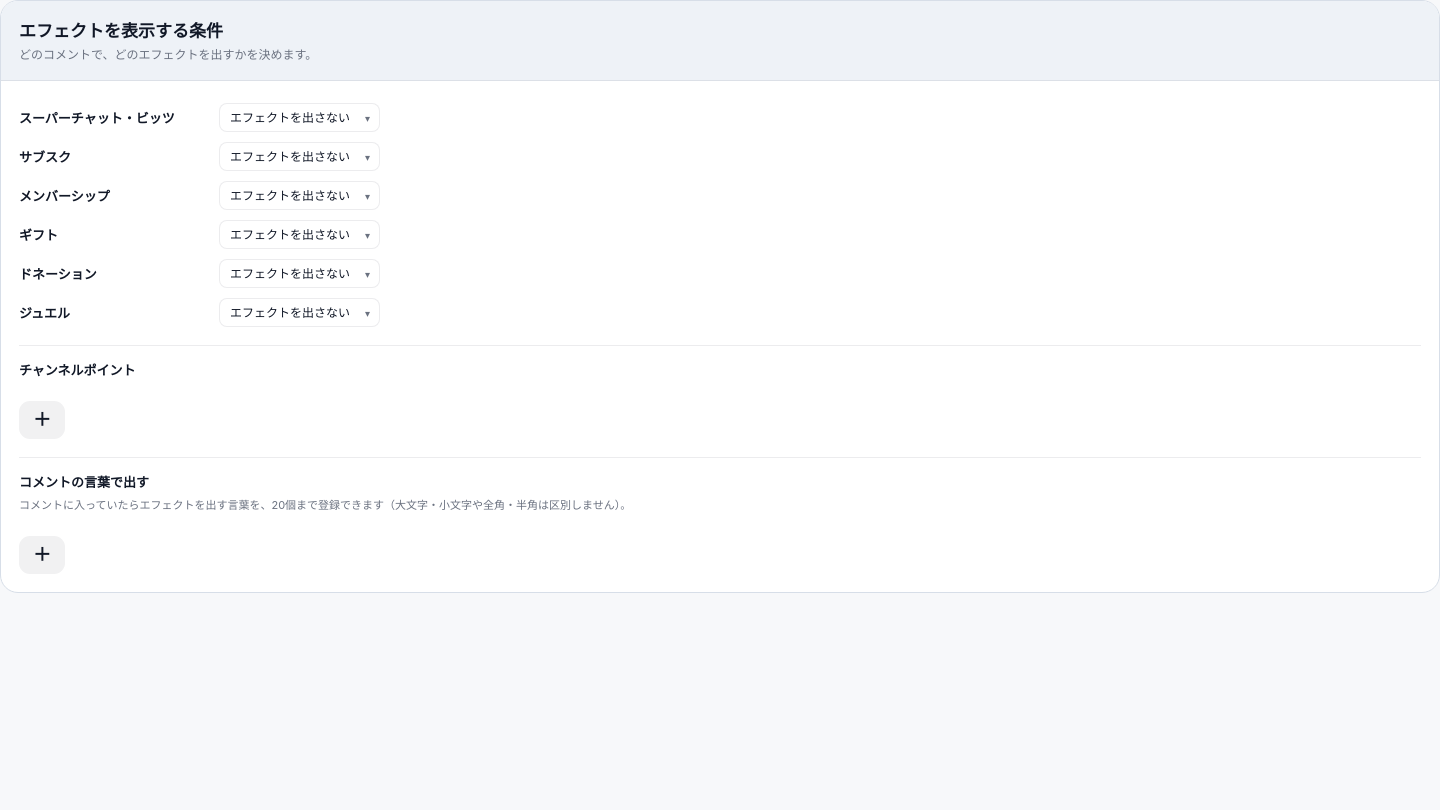
Test: 064b: 割り当て先の OBS ソース（画面） › ⚠⚠⚠ 報酬名が重複した行には警告が出る（黙って動かない行を作らない）
Click the button named "カスタム報酬を追加" at (42, 420), box [19,401,65,439]
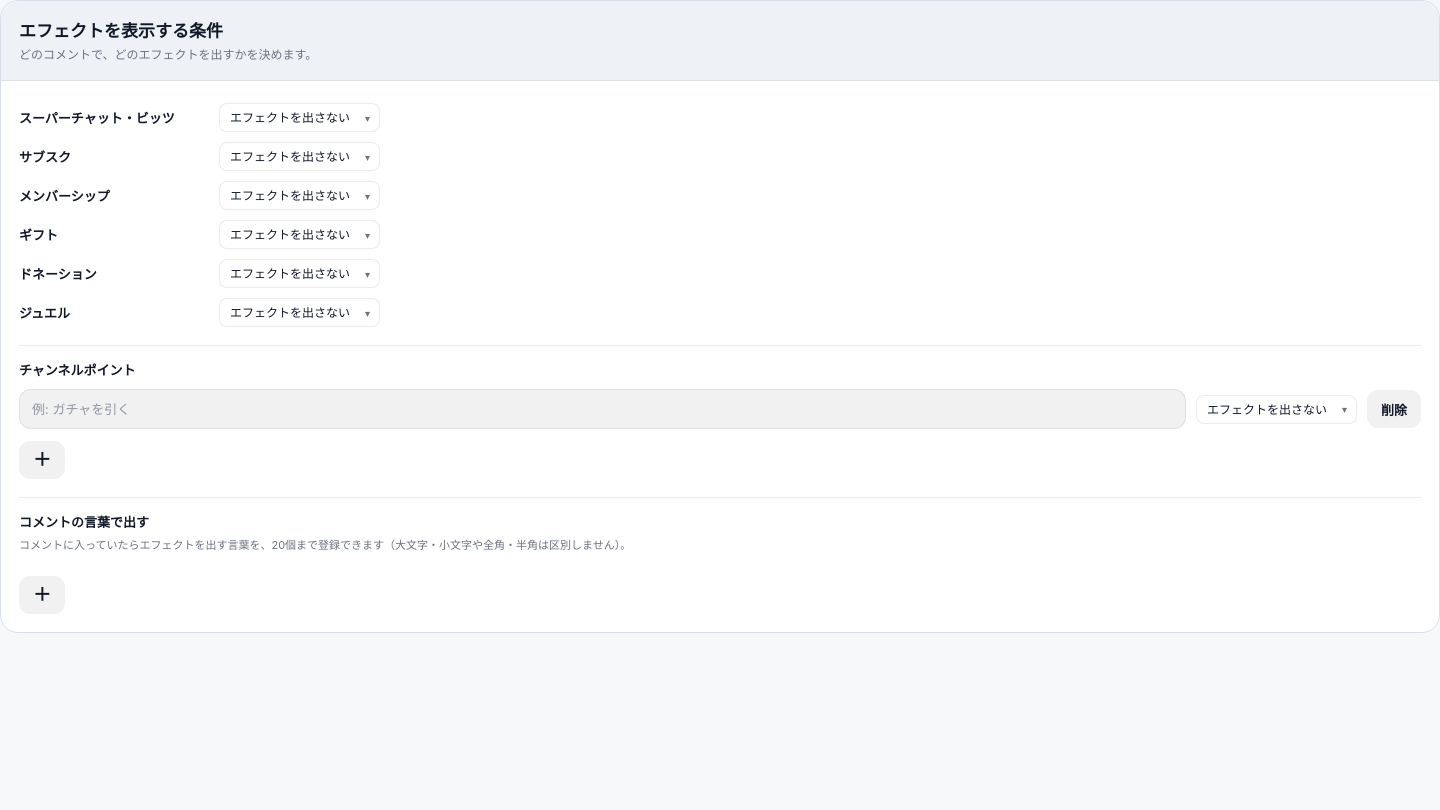
Type "ガチャを引く" into the field named "カスタム報酬の名前 1" at (602, 409), box [19,389,1186,429]
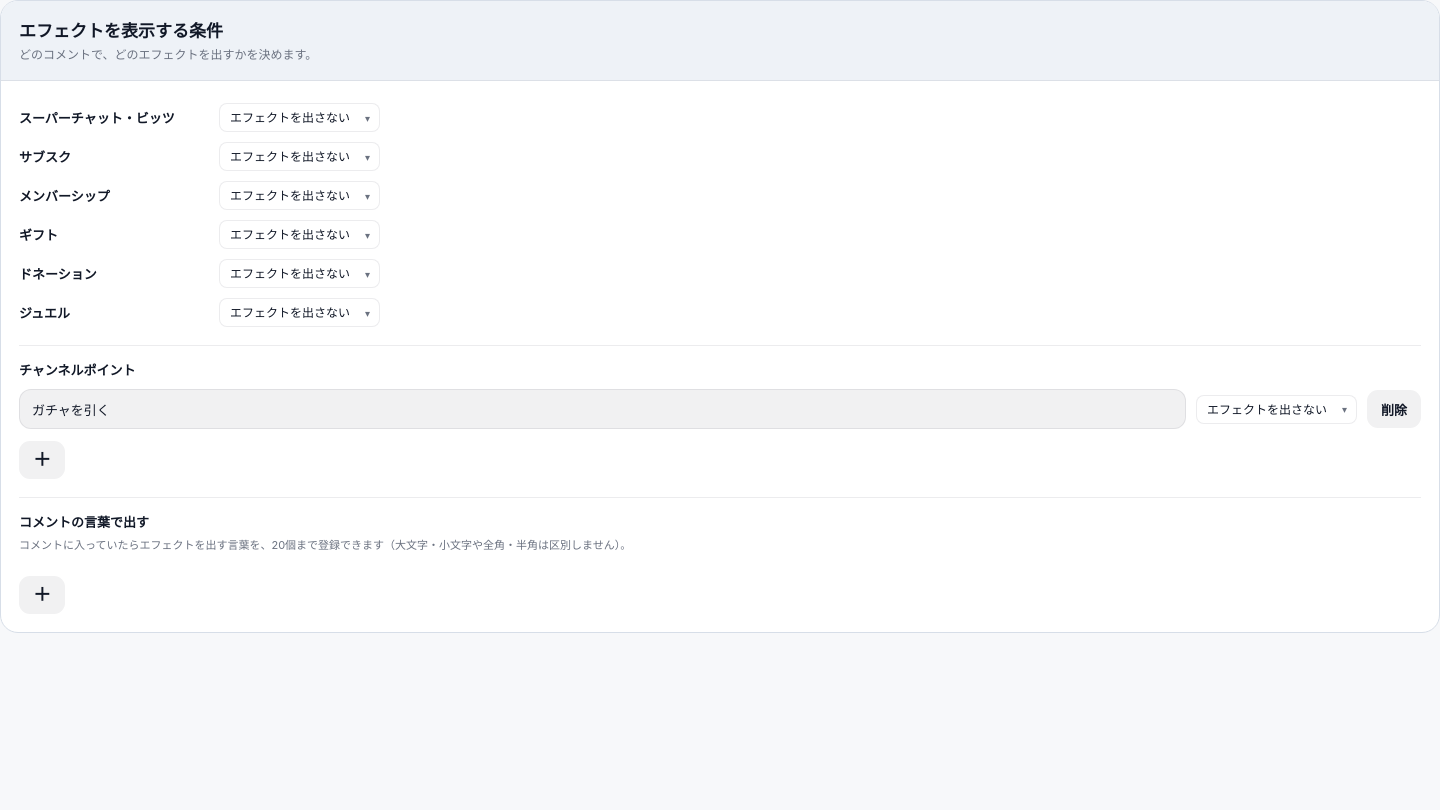
Check: the text "上の行と同じカスタム報酬" is not shown
Click the button named "カスタム報酬を追加" at (42, 460), box [19,441,65,479]
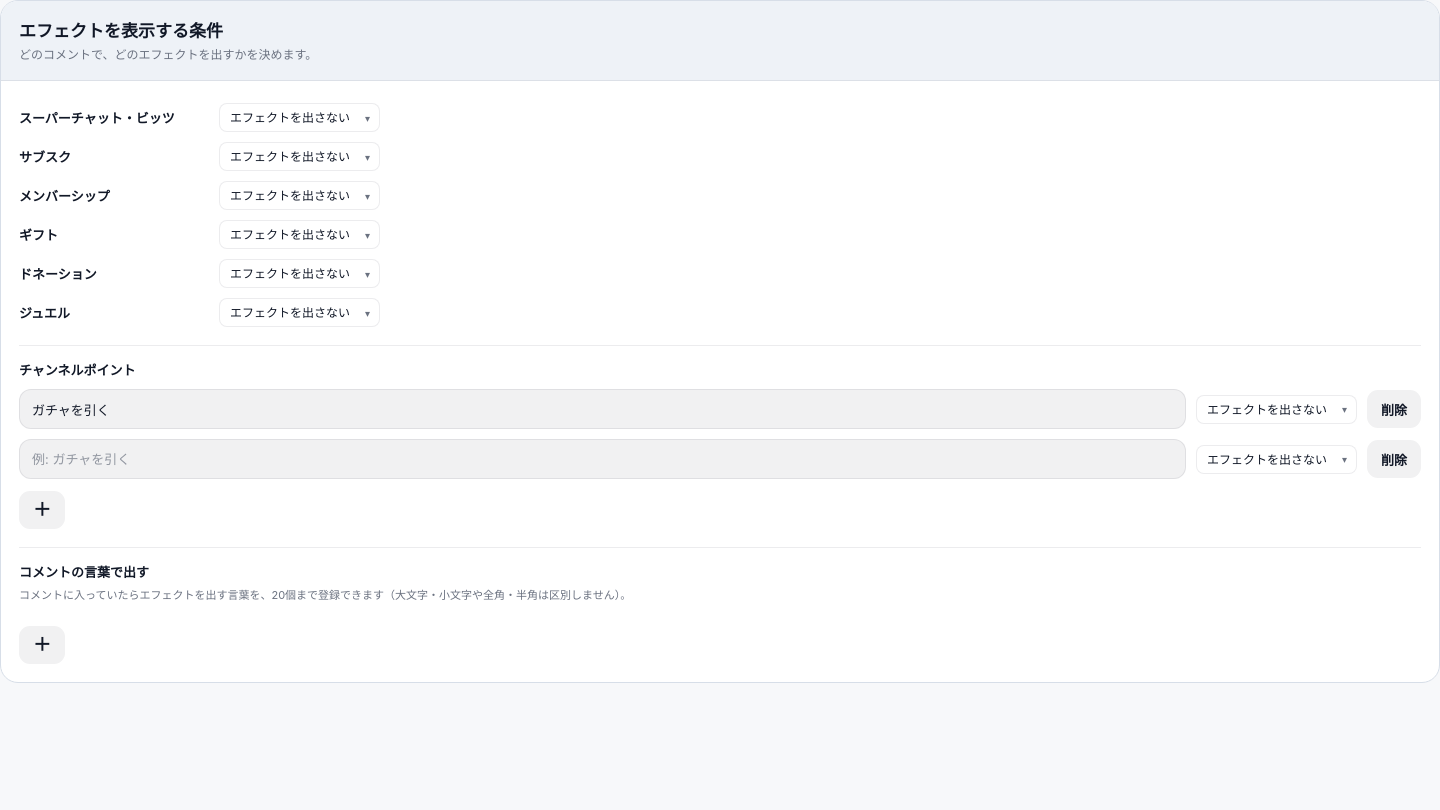
Type " ガチャを引く " into the field named "カスタム報酬の名前 2" at (602, 459), box [19,439,1186,479]
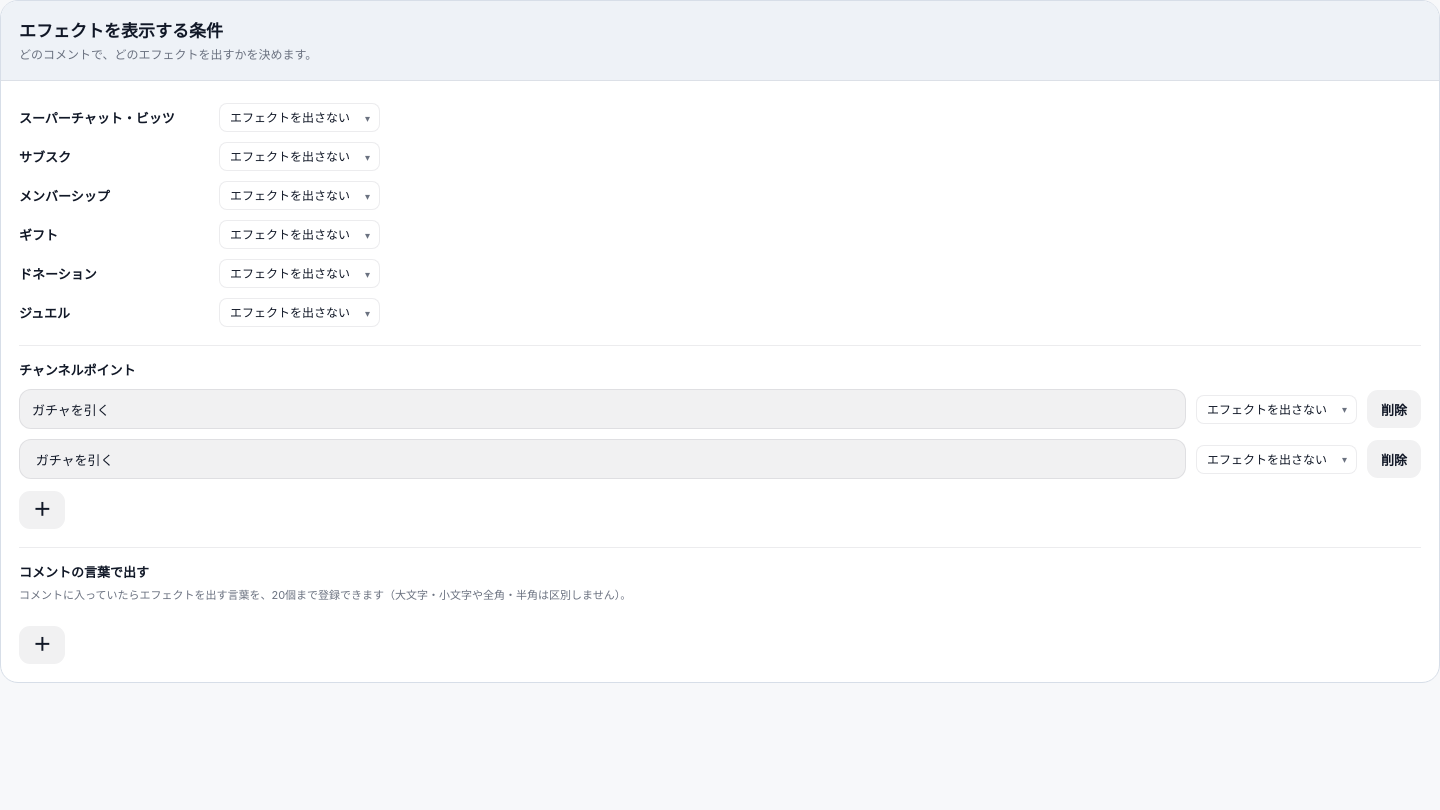
Leave the field named "カスタム報酬の名前 2", box [19,439,1186,479]
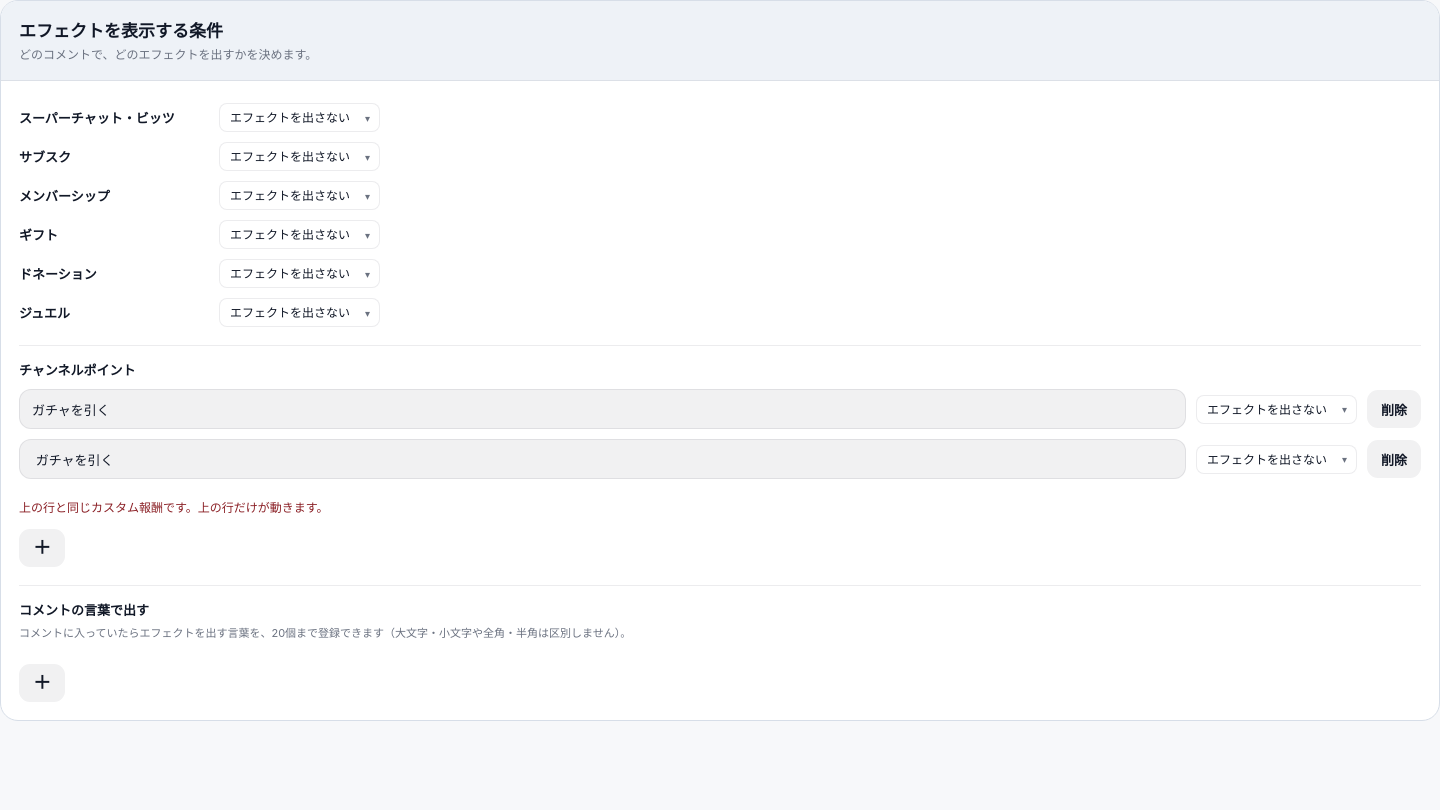
Check: the text "上の行と同じカスタム報酬です。上の行だけが動きます。" is shown, box [19,500,329,515]
